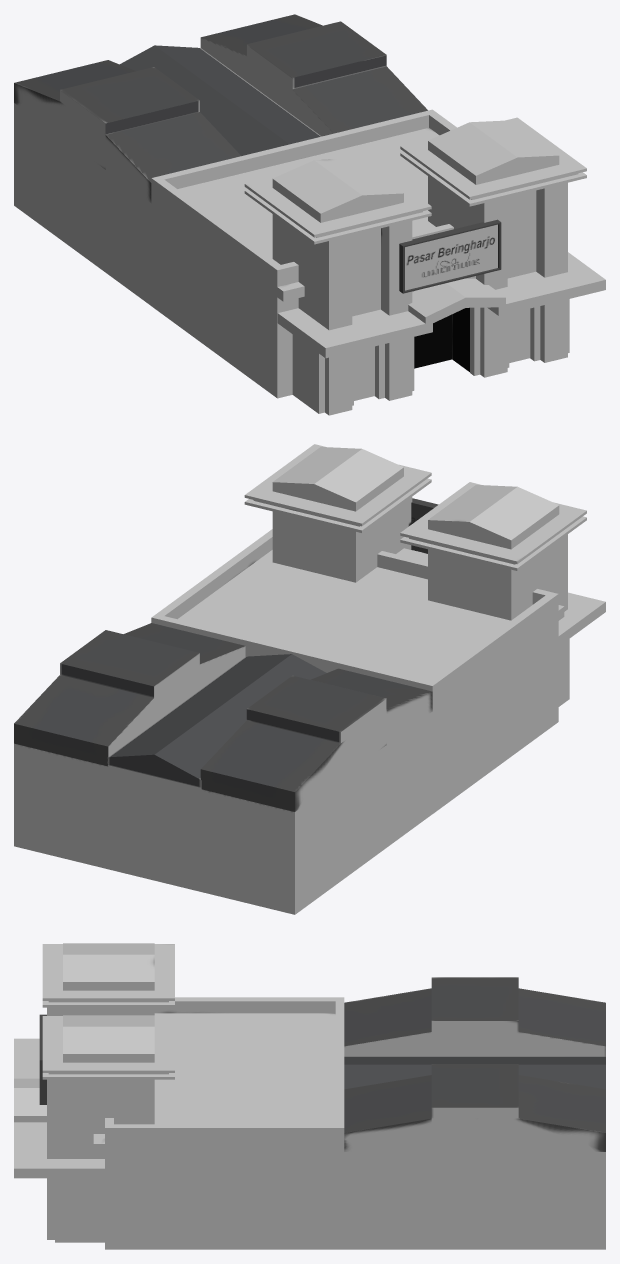
Rendered from Pasar_Beringharjo.fbx.
3 renders of one model, top to bottom at view 1: azimuth 30°, elevation 25°; view 2: azimuth 150°, elevation 25°; view 3: azimuth 270°, elevation 25°, orthographic. The views are drawn at different scales.
Parts seen in each view (by area): view 1: Pasar Bringharjo; view 2: Pasar Bringharjo; view 3: Pasar Bringharjo.
Boxes of the visible parts, x1,y1,x2,y2 form: Pasar Bringharjo: [14, 14, 605, 415]; Pasar Bringharjo: [14, 444, 605, 914]; Pasar Bringharjo: [14, 943, 605, 1249].
Bounding box in the file's own units: 477 × 330 × 914.
1 material, 1 textured.
